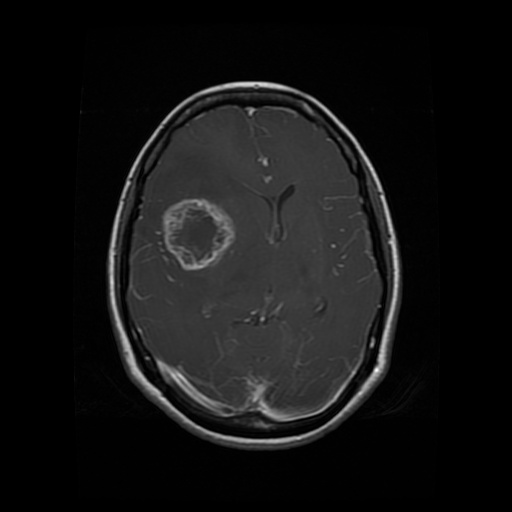glioma: (157, 196, 238, 272)
